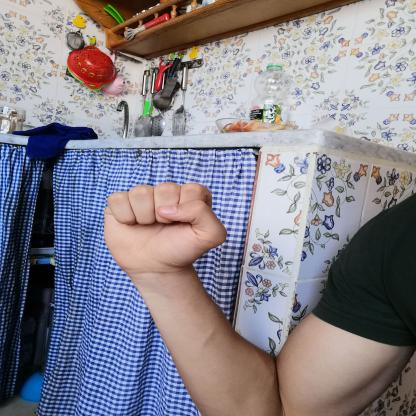SAD: (86, 171, 236, 281)
